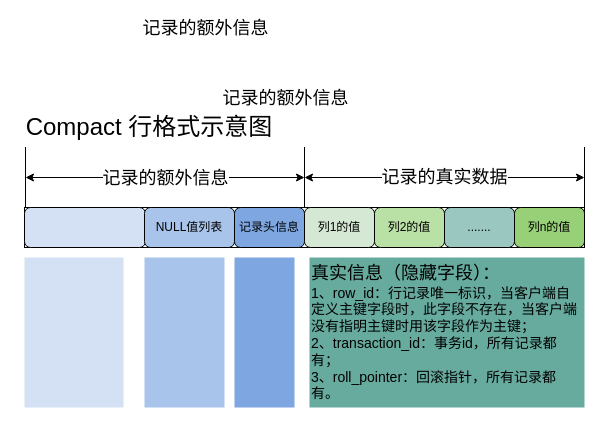
Image size: 611x425. Some labels were removed from this diagram. Each missing label, with the box of its shape:
变长字段长度列表: (24, 206, 146, 248)
存储列字段为NULL的数据记录: (144, 257, 224, 407)
存储着下一个记录的地址等信息: (234, 257, 294, 407)
用来存放 varchar 等类型字段存储数据的长度: (24, 257, 123, 407)
